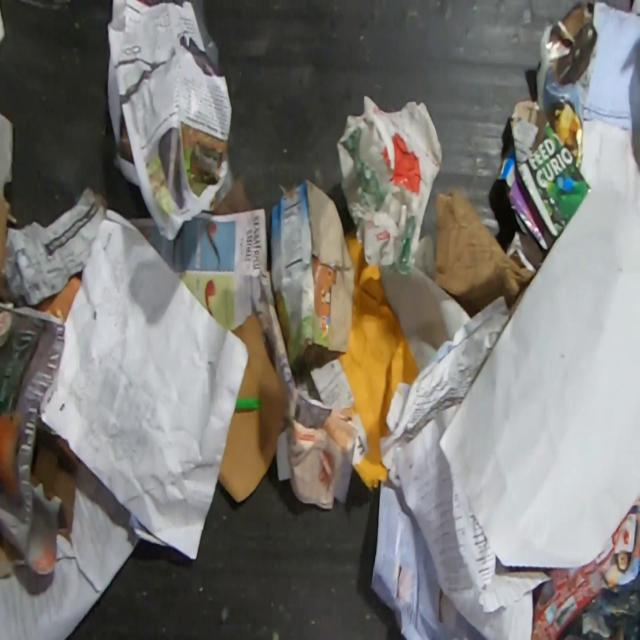cardboard: (336, 227, 420, 489), (0, 302, 79, 577), (336, 95, 443, 273), (270, 177, 353, 375), (218, 310, 286, 501), (432, 188, 532, 316), (508, 99, 591, 237), (496, 137, 557, 252), (0, 110, 14, 273), (36, 274, 80, 320), (213, 174, 252, 215)
